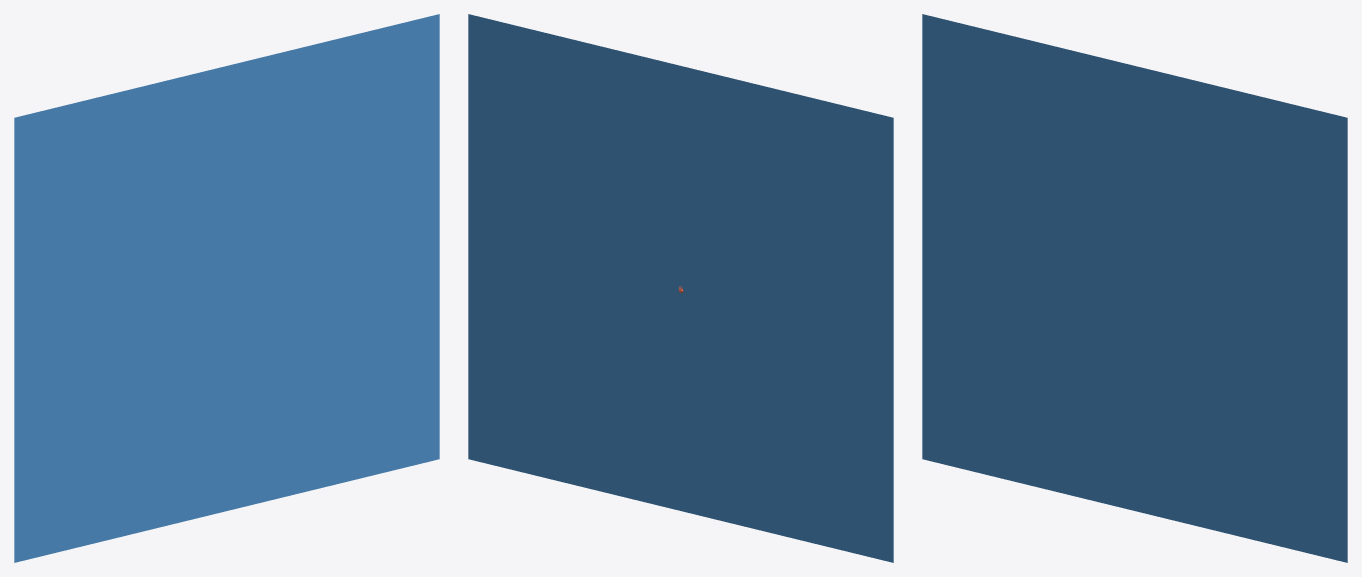
File: crab.dae
3 renders of one model, left to right at view 1: azimuth 30°, elevation 25°; view 2: azimuth 150°, elevation 25°; view 3: azimuth 330°, elevation 25°, orthographic.
Parts seen in each view (by area): view 1: Plane; view 2: Plane; view 3: Plane.
Boxes of the visible parts, box(x1,y1,x2,y2) form: Plane: box(14, 14, 439, 562); Plane: box(468, 14, 893, 562); Plane: box(922, 14, 1347, 562).
Bounding box in the file's own units: 200 × 1.84 × 200.
2 materials, 1 textured.
